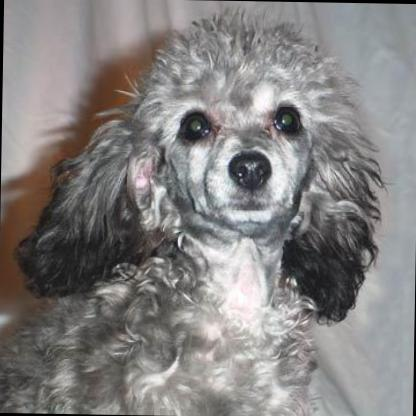toy_poodle: (0, 0, 391, 416)
